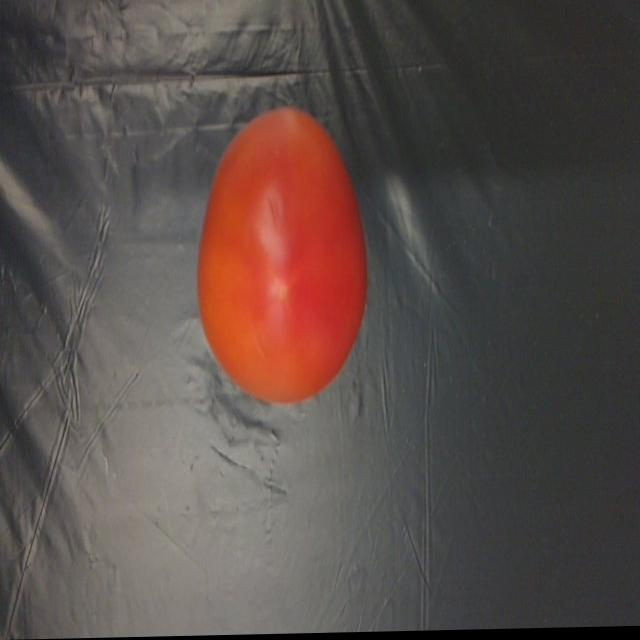kirmizi: (193, 96, 366, 414)
